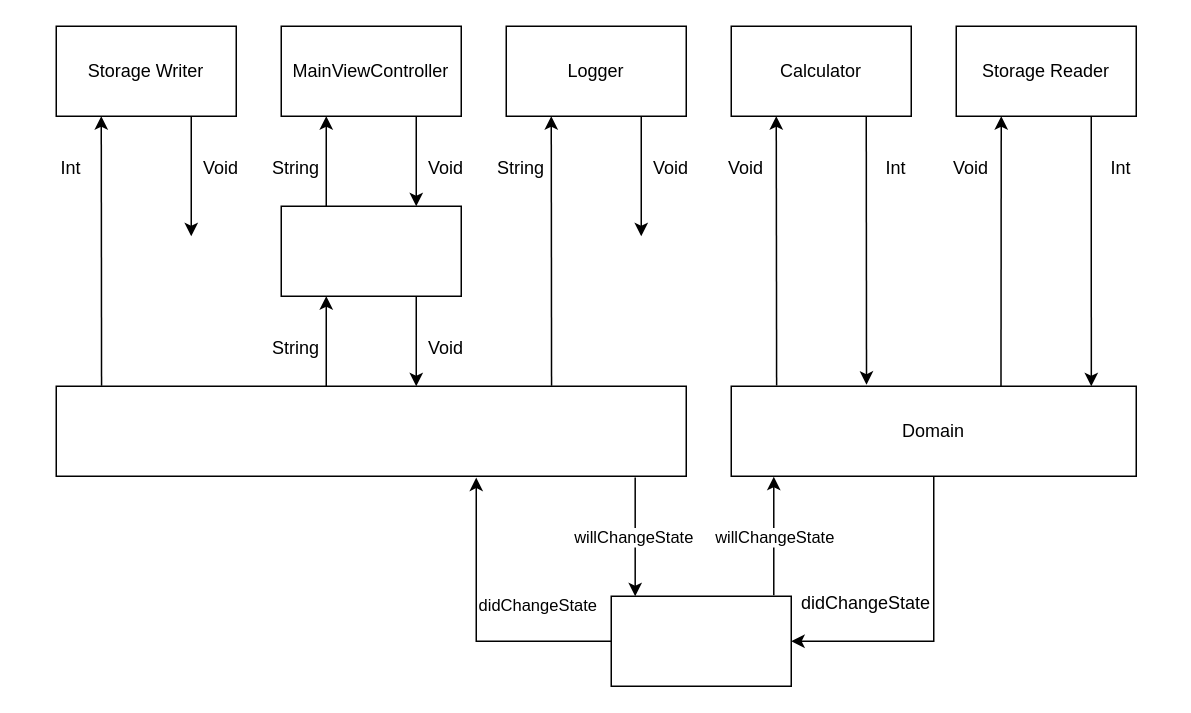
Image size: 1191x713. Some labels were removed from this diagram. Here are the shapes that lost their labels. From the top down, the centre of each, then its label:
At (370,250): "UIWindow".
At (370,430): "Display".
At (700,640): "AppDelegate".
